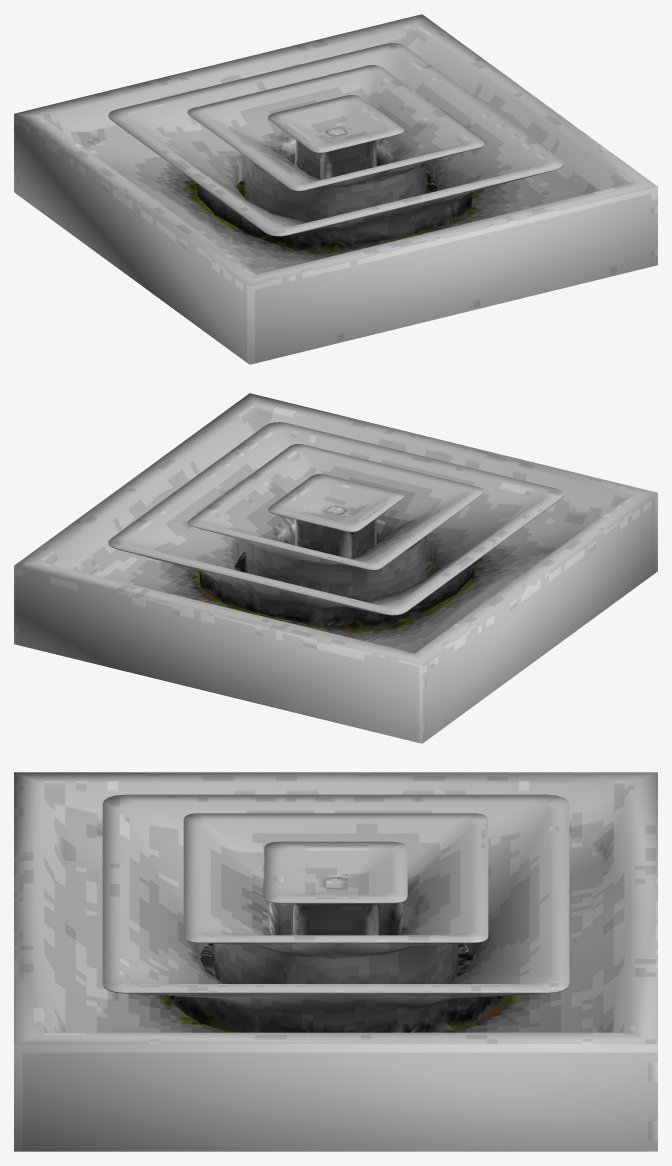
File: vent.dae
3 views of the same model, one above another, from view 1: azimuth 30°, elevation 25°; view 2: azimuth 150°, elevation 25°; view 3: azimuth 270°, elevation 25° (orthographic). The views are drawn at different scales.
Parts seen in each view (by area): view 1: Vent; view 2: Vent; view 3: Vent.
Boxes of the visible parts, left/top/right/bottom form: Vent: left=14, top=14, right=657, bottom=364; Vent: left=14, top=393, right=657, bottom=743; Vent: left=14, top=772, right=657, bottom=1151.
Bounding box in the file's own units: 60.96 × 60.96 × 14.99.
Materials: 1 (1 with a texture image).
